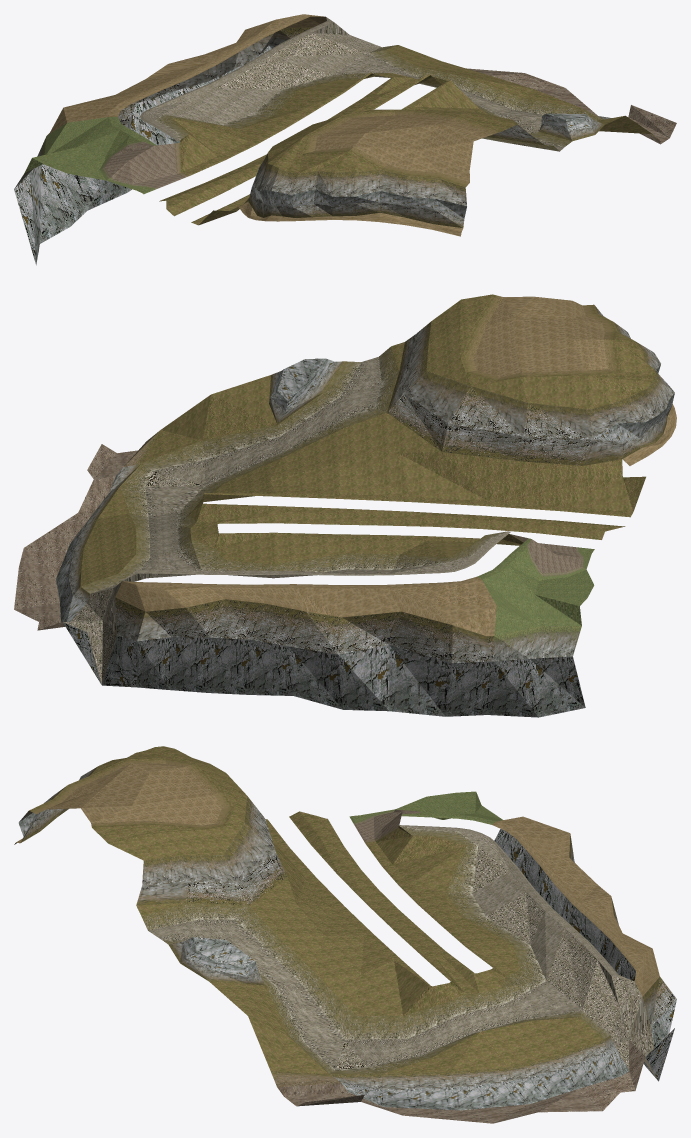
The model's file is lodcuntw63.obj.
3 views of the same model, one above another, from view 1: azimuth 30°, elevation 25°; view 2: azimuth 150°, elevation 25°; view 3: azimuth 270°, elevation 25° (orthographic).
Visible parts, largest first — view 1: lodcuntw63; view 2: lodcuntw63; view 3: lodcuntw63.
Boxes of the visible parts, bbox=[...] form: lodcuntw63: bbox=[14, 14, 676, 265]; lodcuntw63: bbox=[14, 294, 676, 717]; lodcuntw63: bbox=[14, 746, 676, 1123].
Bounding box in the file's own units: 353 × 124 × 360.
Materials: 13 (13 with a texture image).
